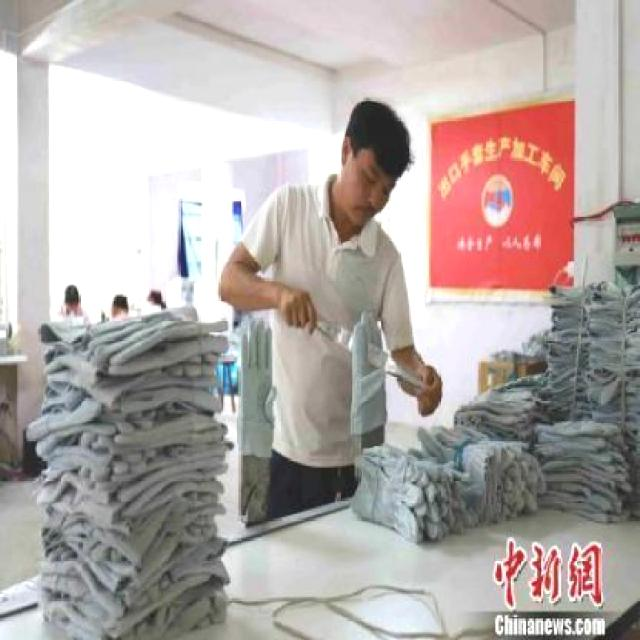face_nomask: (348, 160, 389, 226)
hand_noglove: (278, 284, 317, 334), (414, 362, 441, 416)
head_nohelmet: (357, 94, 417, 174)
person: (217, 92, 457, 523)
